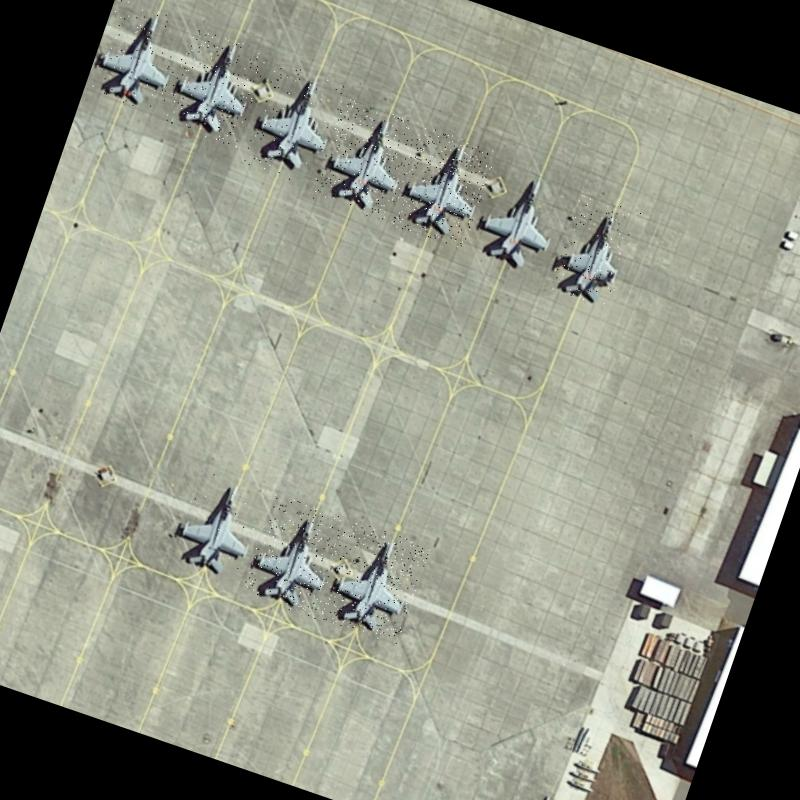A16: (462, 154, 572, 287), (311, 98, 422, 224), (387, 125, 498, 251), (320, 520, 430, 646), (242, 61, 350, 189), (241, 494, 350, 620), (160, 463, 272, 585), (160, 26, 270, 148), (86, 0, 195, 117), (548, 192, 642, 309)
